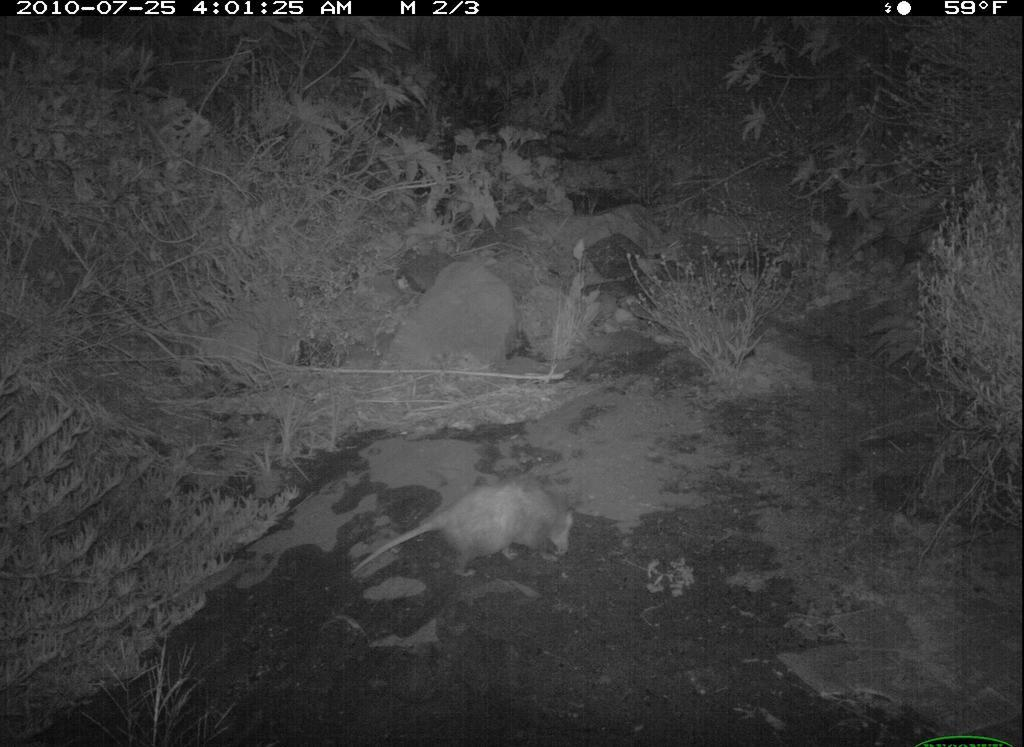opossum: (342, 478, 584, 585)
